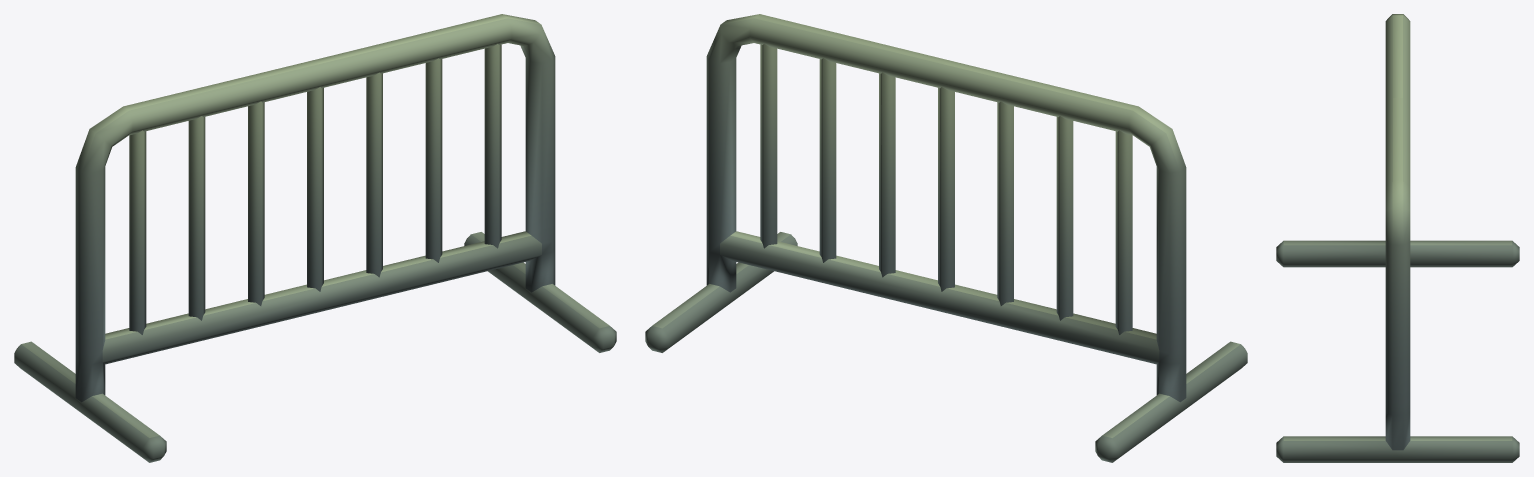
The model's file is barrier_metal_fence.fbx.
3 views of the same model, side by side, from view 1: azimuth 30°, elevation 25°; view 2: azimuth 150°, elevation 25°; view 3: azimuth 270°, elevation 25° (orthographic). The views are drawn at different scales.
Visible parts, largest first — view 1: barrier_metal_fence; view 2: barrier_metal_fence; view 3: barrier_metal_fence.
Boxes of the visible parts, left/top/right/bottom form: barrier_metal_fence: left=14, top=14, right=616, bottom=462; barrier_metal_fence: left=645, top=14, right=1247, bottom=462; barrier_metal_fence: left=1276, top=14, right=1519, bottom=462.
Bounding box in the file's own units: 200 × 120 × 100.
